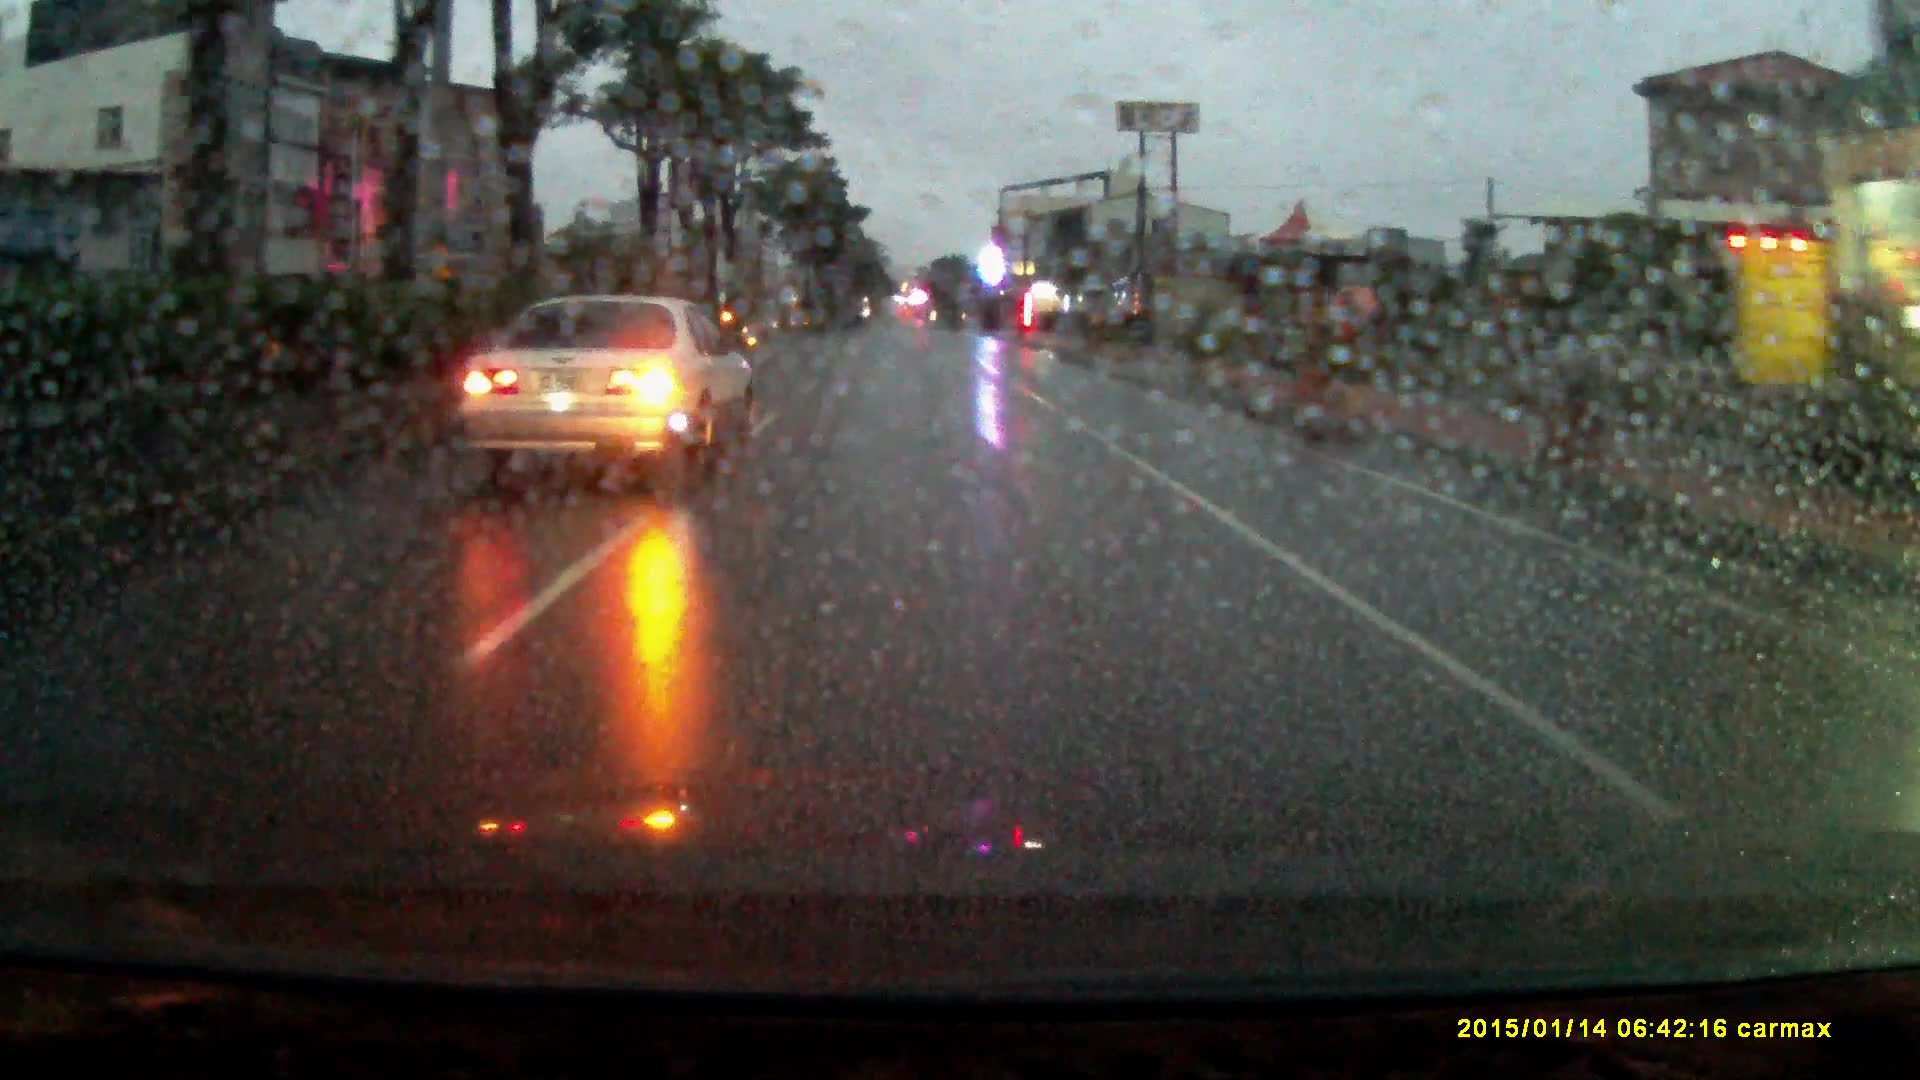pedestrian: (1316, 277, 1381, 402)
vehicle: (462, 288, 767, 489)
